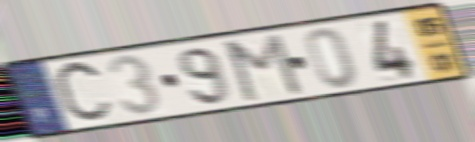0: (303, 24, 361, 91)
3: (106, 51, 165, 119)
4: (371, 17, 418, 81)
9: (177, 45, 233, 106)
C: (51, 57, 117, 129)
M: (223, 31, 306, 104)
